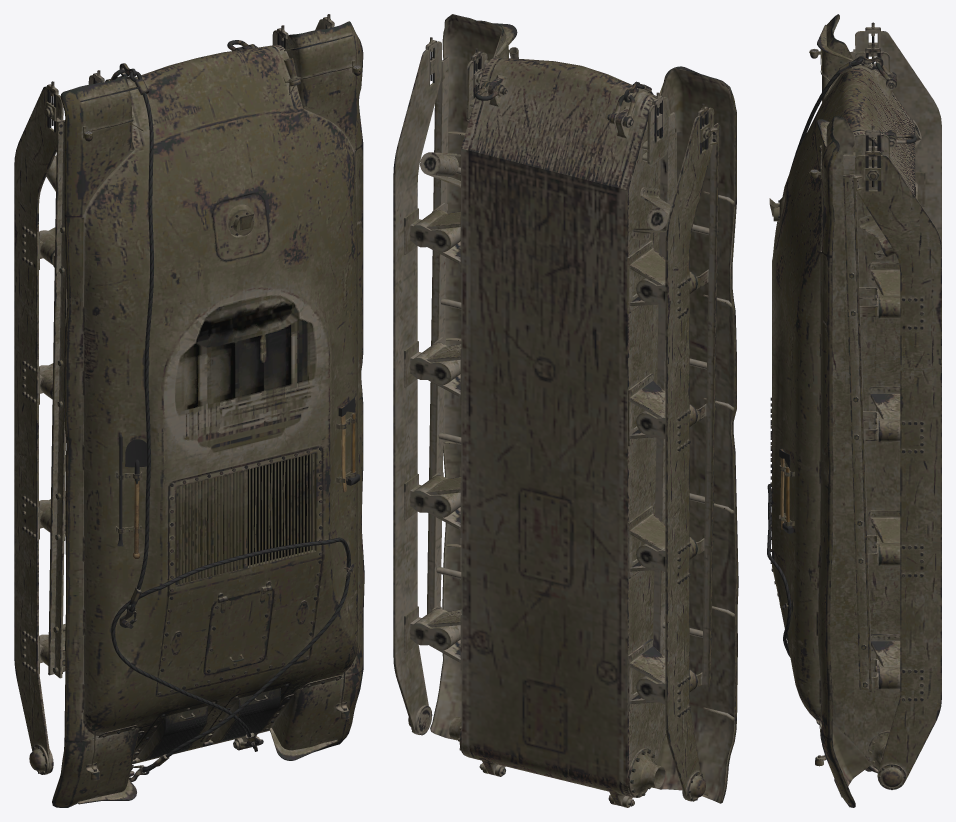
File: Hull.glb
3 renders of one model, left to right at view 1: azimuth 30°, elevation 25°; view 2: azimuth 150°, elevation 25°; view 3: azimuth 270°, elevation 25°, orthographic. The views are drawn at different scales.
Visible parts, largest first — view 1: set_0_group_0, set_0_group_1; view 2: set_0_group_0, set_0_group_1; view 3: set_0_group_0, set_0_group_1.
Part boxes in pixels (x1,y1,x2,y2): set_0_group_0: (52, 21, 364, 807); set_0_group_1: (14, 14, 334, 774); set_0_group_0: (430, 14, 738, 807); set_0_group_1: (393, 37, 719, 801); set_0_group_0: (767, 14, 916, 807); set_0_group_1: (843, 22, 941, 789).
Bounding box in the file's own units: 2.84 × 6.68 × 1.58.
Materials: 2 (2 with a texture image).
